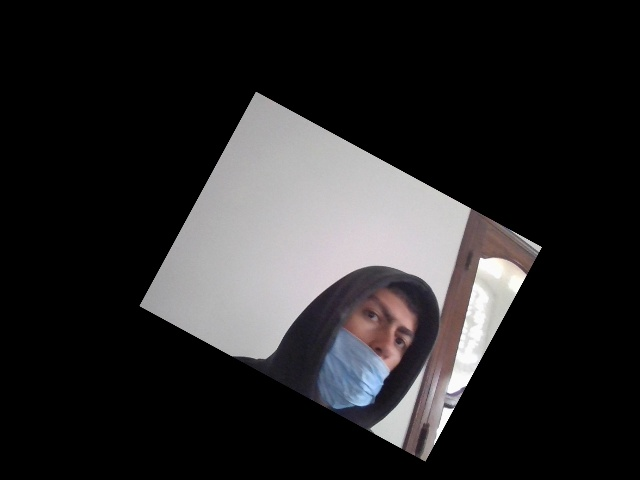mask_weared_incorrect: (319, 286, 420, 412)
